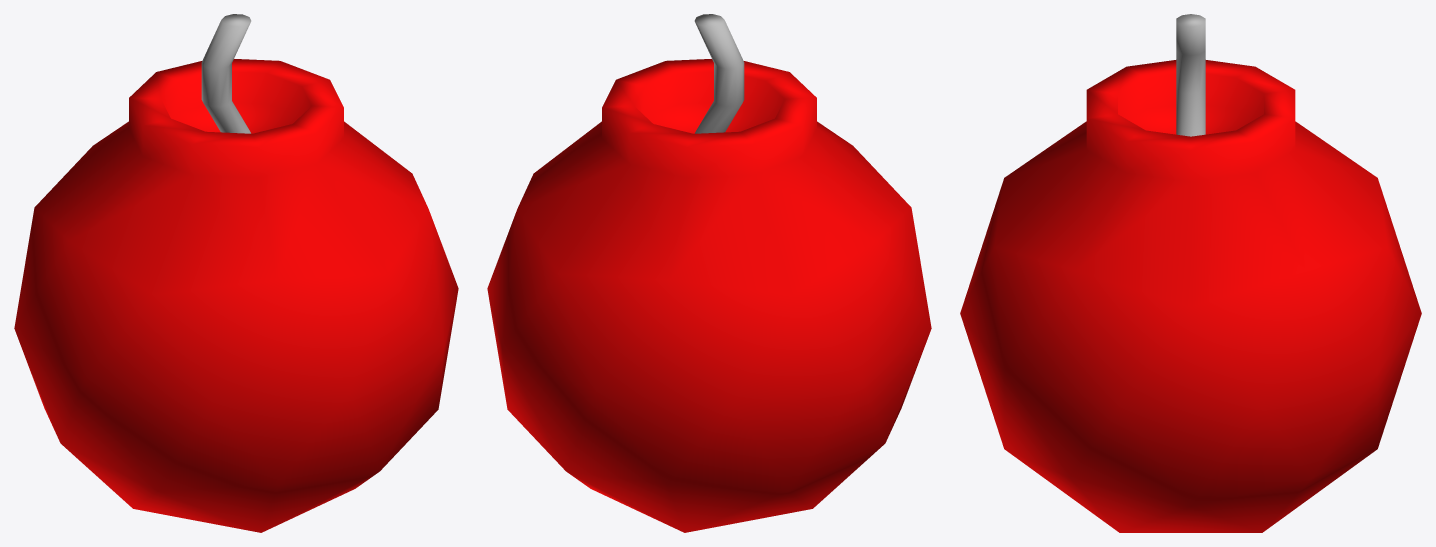
Rendered from Bomb.fbx.
3 renders of one model, left to right at view 1: azimuth 30°, elevation 25°; view 2: azimuth 150°, elevation 25°; view 3: azimuth 270°, elevation 25°, orthographic.
Visible parts, largest first — view 1: Bomb; view 2: Bomb; view 3: Bomb.
Boxes of the visible parts, bbox=[...] form: Bomb: bbox=[14, 14, 458, 532]; Bomb: bbox=[487, 14, 931, 532]; Bomb: bbox=[960, 14, 1421, 532].
Bounding box in the file's own units: 22.83 × 28.81 × 24.
